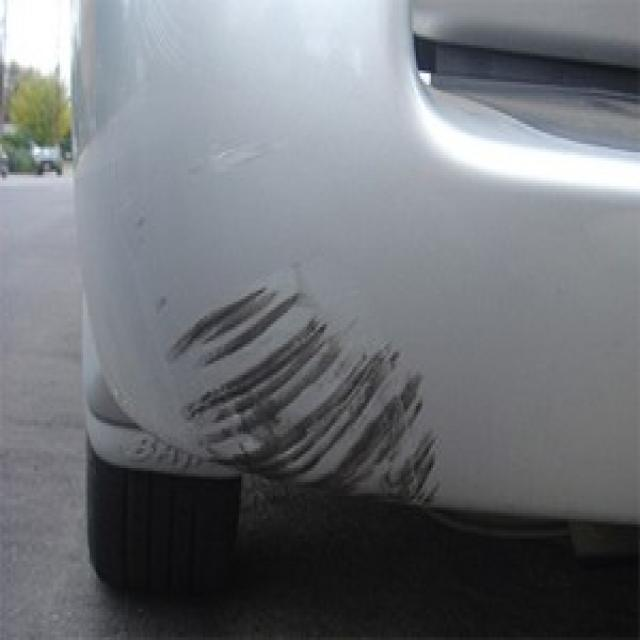scratch: (174, 368, 478, 469), (158, 256, 414, 368), (368, 469, 455, 510)
